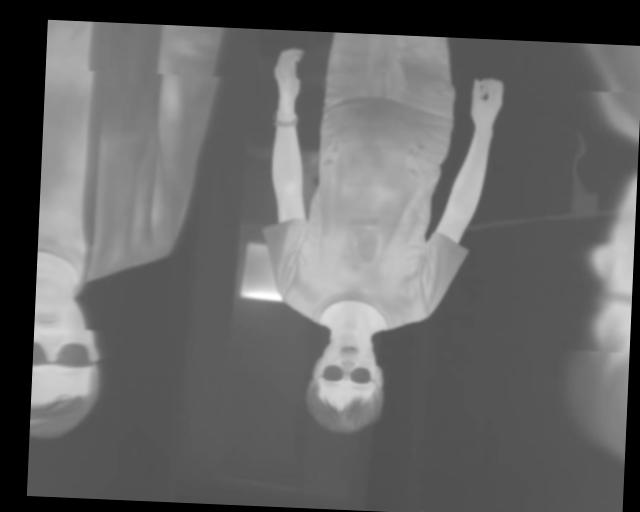face: (29, 282, 106, 445), (303, 328, 388, 437)
